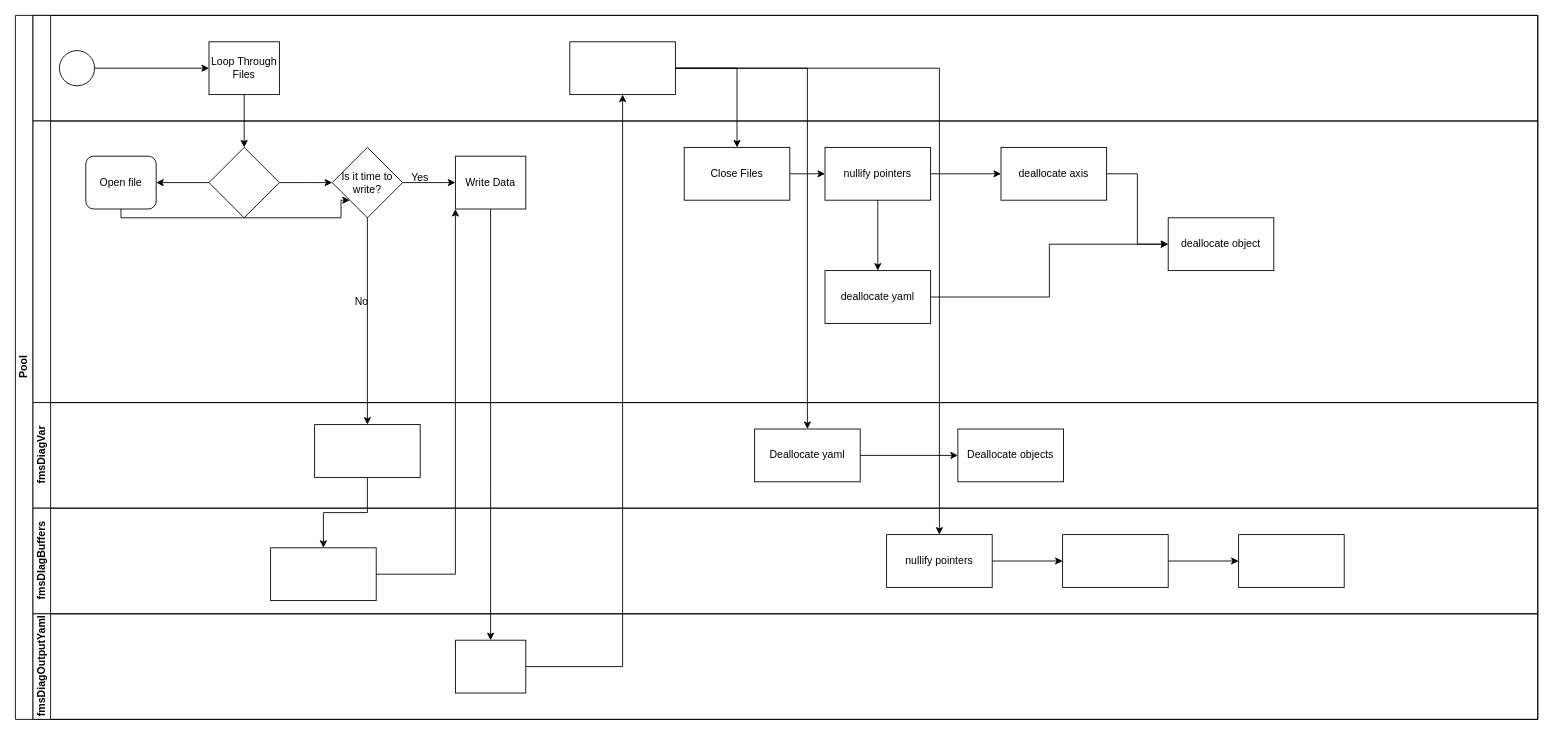
Some shapes in this 1553 by 735 pixel diagram are drawn without their labels. Each missing label, with the box of its shape:
Clean Up: (569, 41, 675, 95)
Deallocate buffer: (1062, 534, 1168, 587)
Fill buffer with fillvalue: (270, 547, 376, 601)
fmsDiagFile: (32, 120, 1538, 403)
fmsDiagObject: (32, 15, 1538, 121)
Has file been opened?: (208, 147, 279, 218)
Obtain fillvalue: (314, 424, 420, 477)
Write output yaml: (455, 639, 526, 693)
